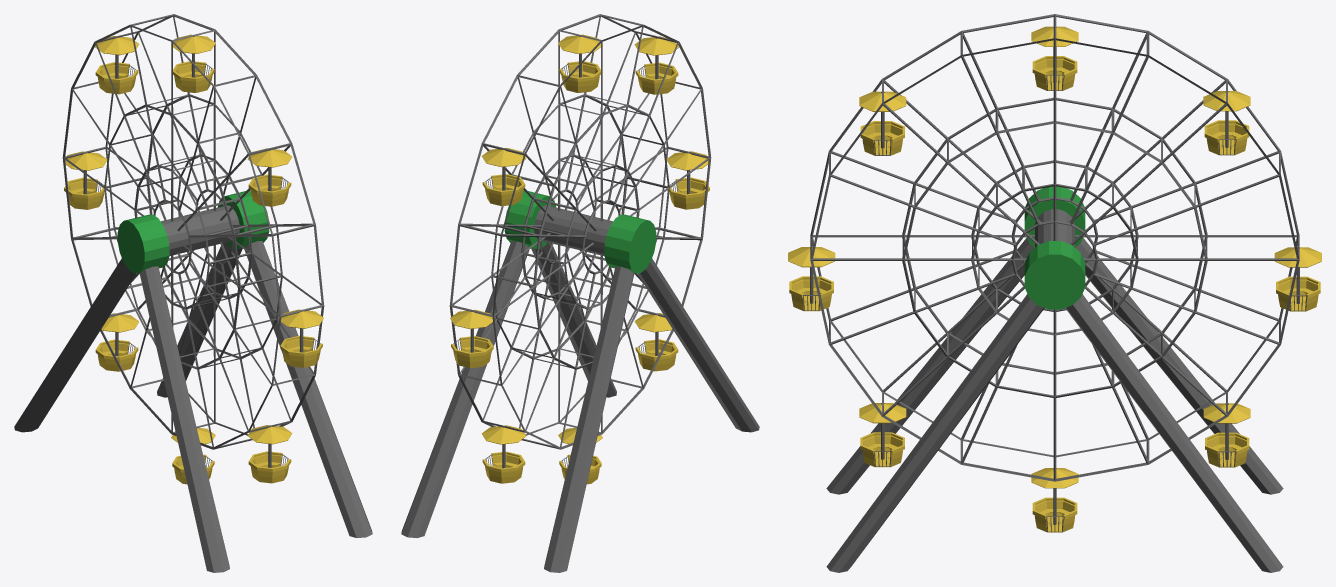
Rendered from Ferris_wheel.fbx.
The picture shows the model from 3 angles, left to right: view 1: azimuth 30°, elevation 25°; view 2: azimuth 150°, elevation 25°; view 3: azimuth 270°, elevation 25°; orthographic projection. The views are drawn at different scales.
Visible parts, largest first — view 1: Cylinder.004, Ferris_Wheel, Circle.001, Axel; view 2: Cylinder.004, Ferris_Wheel, Circle.001, Axel; view 3: Ferris_Wheel, Cylinder.004, Circle.001, Axel.
Boxes of the visible parts, bbox=[...] form: Cylinder.004: bbox=[14, 190, 372, 572]; Ferris_Wheel: bbox=[62, 14, 324, 449]; Circle.001: bbox=[63, 34, 323, 484]; Axel: bbox=[161, 205, 239, 256]; Cylinder.004: bbox=[401, 190, 759, 572]; Ferris_Wheel: bbox=[449, 14, 711, 449]; Circle.001: bbox=[450, 34, 709, 484]; Axel: bbox=[534, 205, 612, 256]; Ferris_Wheel: bbox=[810, 14, 1299, 481]; Cylinder.004: bbox=[826, 186, 1283, 572]; Circle.001: bbox=[788, 26, 1321, 532]; Axel: bbox=[1035, 209, 1074, 247].
Bounding box in the file's own units: 3388 × 1362 × 3512.
